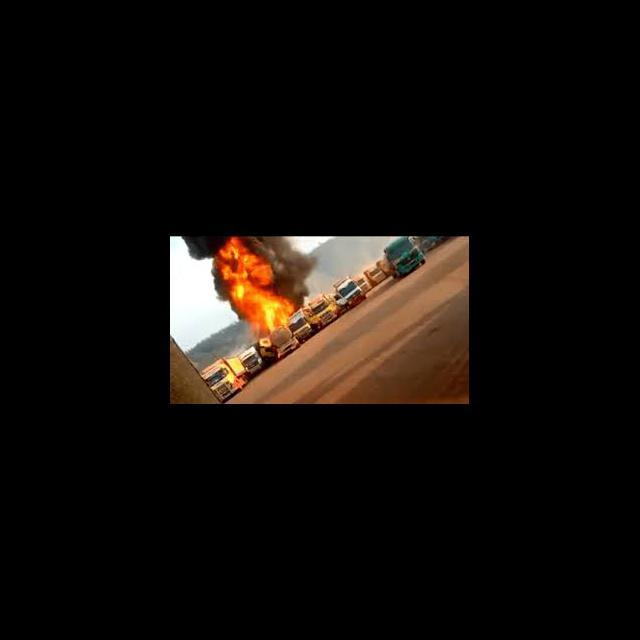Fire: (218, 238, 298, 339)
Smoke: (241, 236, 319, 308)
